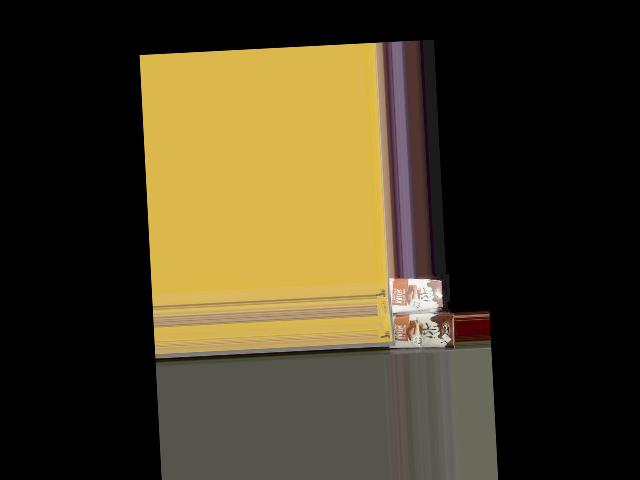chocolate: (382, 272, 444, 313)
